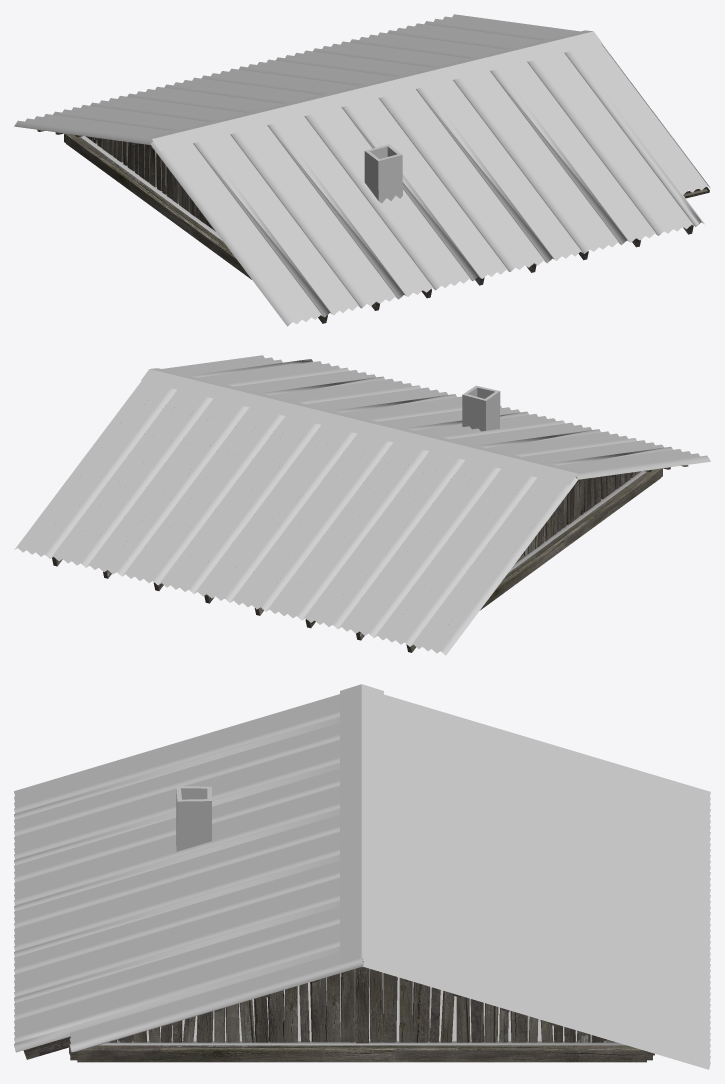
The model's file is Attic.fbx.
3 renders of one model, top to bottom at view 1: azimuth 30°, elevation 25°; view 2: azimuth 150°, elevation 25°; view 3: azimuth 270°, elevation 25°, orthographic. The views are drawn at different scales.
Visible parts, largest first — view 1: Attic; view 2: Attic; view 3: Attic.
Part boxes in pixels (x1,y1,x2,y2): Attic: (14, 14, 710, 326); Attic: (14, 355, 710, 655); Attic: (14, 684, 710, 1069).
Size of the model in its own units: 1200 by 273 by 1283.
